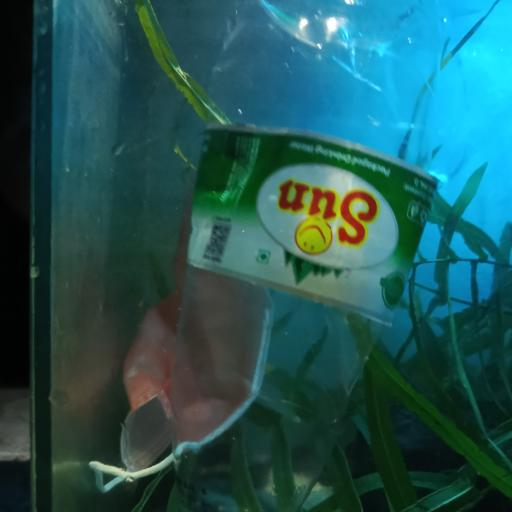mask: (83, 165, 278, 495)
plastic_bottle: (173, 0, 448, 512)
